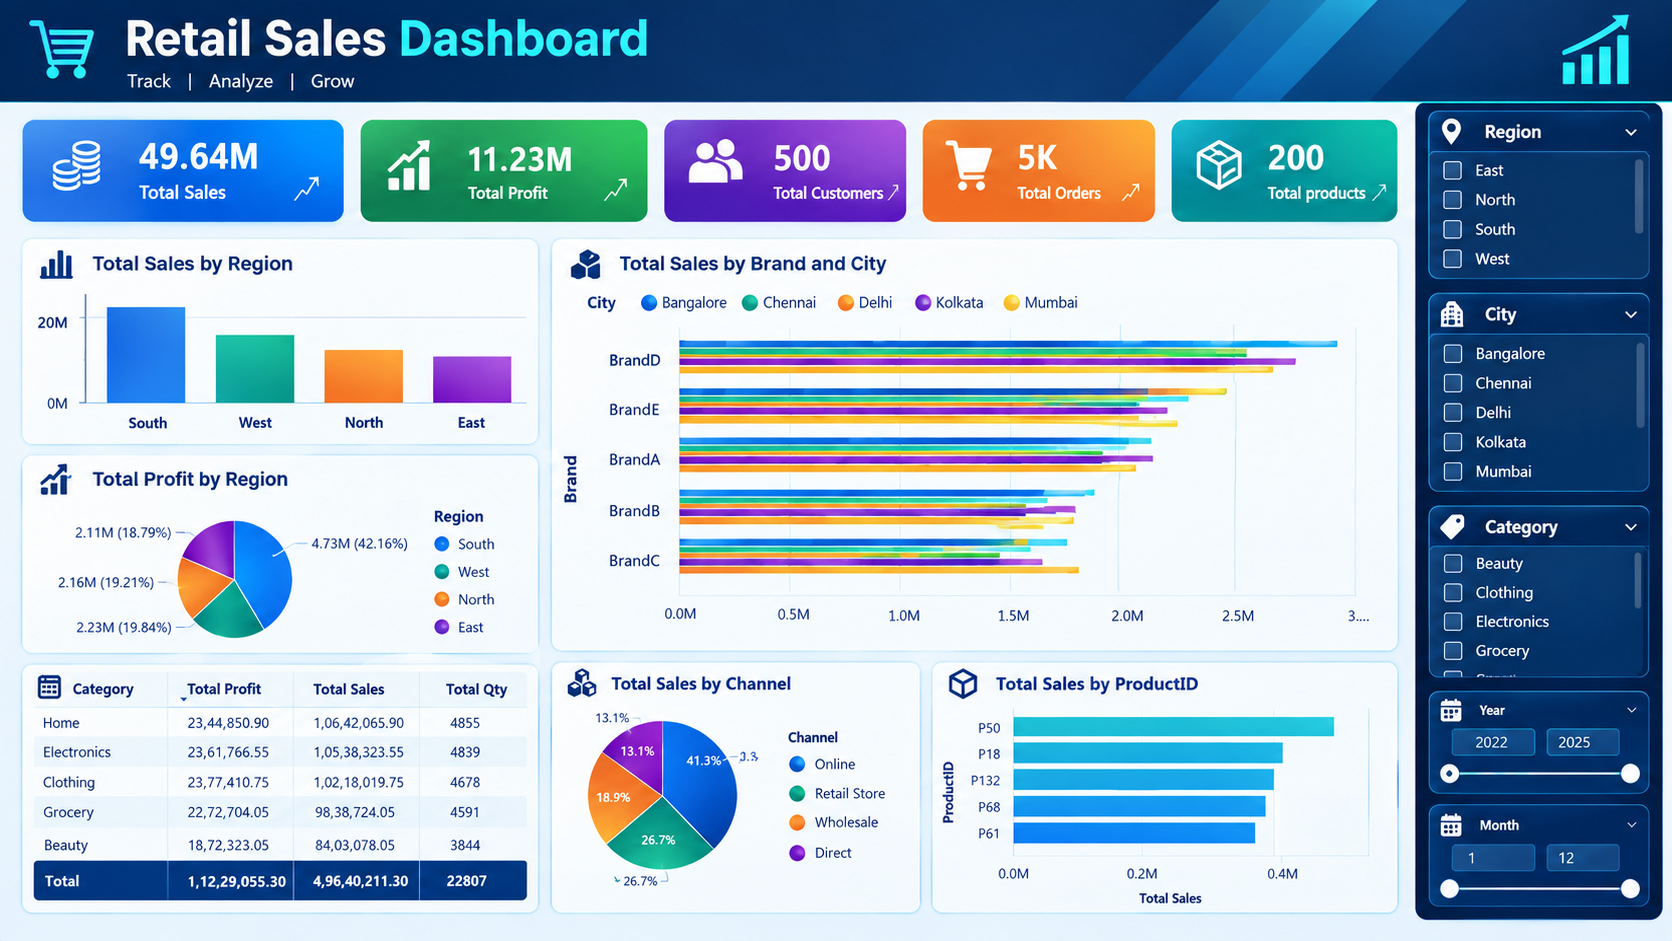

What the dashboard file says about the page in this screenshot:
{"tool":"powerbi","page":{"name":"OVERVIER","canvas":[1280,720],"ordinal":1},"visuals":[{"type":"cardVisual","fields":{"Data":["Fact Sales.Total Sales","Fact Sales.Total Profit","Fact Sales.Total cus","Fact Sales.Total Orders","Fact Sales.Total products"]},"box":[257.1,0,805.7,144.3],"z":0},{"type":"slicer","fields":{"Values":["Dim Customer.Region"]},"box":[1073.7,0,197.9,138.7],"z":1000},{"type":"slicer","fields":{"Values":["Dim Customer.City"]},"box":[1077.1,144.3,197.1,174.3],"z":2000},{"type":"slicer","fields":{"Values":["Dim Product.Category"]},"box":[1078.6,325.7,197.1,158.6],"z":3000},{"type":"slicer","fields":{"Values":["Dim Calender.Year"]},"box":[1078.6,492.9,197.1,102.9],"z":4000},{"type":"slicer","fields":{"Values":["Dim Calender.Month"]},"box":[1078.6,602.9,197.1,111.4],"z":5000},{"type":"textbox","box":[15.7,0,241.4,144.3],"z":6000},{"type":"columnChart","title":"Total Sales by Region","fields":{"Category":["Dim Customer.Region"],"Y":["Fact Sales.Total Sales"]},"box":[15.7,150.8,448.8,161.7],"z":7000},{"type":"pieChart","fields":{"Category":["Dim Customer.Region"],"Y":["Fact Sales.Total Profit"]},"box":[15.7,318.5,448.8,158],"z":8000},{"type":"clusteredBarChart","fields":{"Category":["Dim Product.Brand"],"Series":["Dim Customer.City"],"Y":["Fact Sales.Total Sales"]},"box":[475.3,149.6,598.4,328.2],"z":9000},{"type":"tableEx","fields":{"Values":["Dim Product.Category","Fact Sales.Total Profit","Fact Sales.Total Sales","Fact Sales.Total Qty"]},"box":[0,485,367.5,216.2],"z":10000},{"type":"pieChart","fields":{"Category":["Dim Store.Channel"],"Y":["Fact Sales.Total Sales"]},"box":[382.5,487.5,246.2,215],"z":11000},{"type":"barChart","fields":{"Category":["Dim Product.ProductID"],"Y":["Fact Sales.Total Sales"]},"box":[640,487.5,435,215],"z":12000}]}

Visuals, with their boxes in screenshot pixels (x1, y1, x2, y2), scaled from the page's 1280x720 canvas onto the 1672x941 screenshot:
cardVisual - Fact Sales.Total Sales x Fact Sales.Total Profit: rect(336, 0, 1388, 189)
slicer - Dim Customer.Region: rect(1403, 0, 1661, 181)
slicer - Dim Customer.City: rect(1407, 189, 1664, 416)
slicer - Dim Product.Category: rect(1409, 426, 1666, 633)
slicer - Dim Calender.Year: rect(1409, 644, 1666, 779)
slicer - Dim Calender.Month: rect(1409, 788, 1666, 934)
textbox: rect(21, 0, 336, 189)
"Total Sales by Region" columnChart: rect(21, 197, 607, 408)
pieChart - Dim Customer.Region x Fact Sales.Total Profit: rect(21, 416, 607, 623)
clusteredBarChart - Dim Product.Brand x Dim Customer.City: rect(621, 196, 1403, 624)
tableEx - Dim Product.Category x Fact Sales.Total Profit: rect(0, 634, 480, 916)
pieChart - Dim Store.Channel x Fact Sales.Total Sales: rect(500, 637, 821, 918)
barChart - Dim Product.ProductID x Fact Sales.Total Sales: rect(836, 637, 1404, 918)
